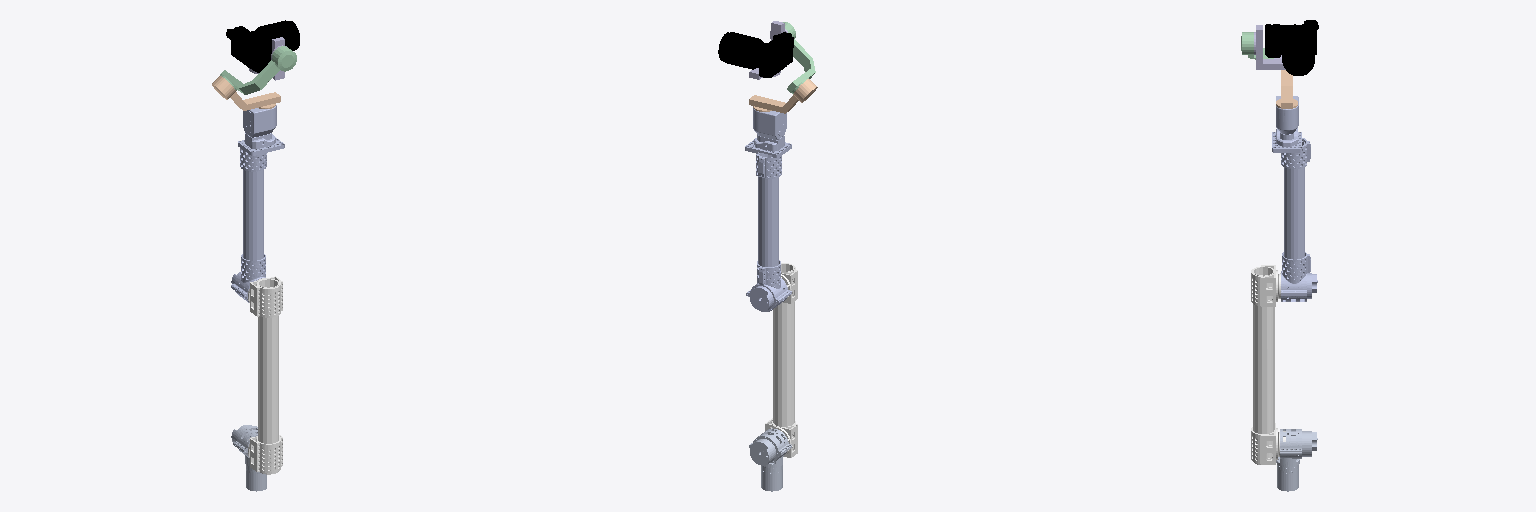
robot.urdf — recomoProto1-190:
<?xml version="1.0" encoding="utf-8"?>
<!--
  RecomoProto1-190 URDF - Modified from recomo_pro_1900_urdf
  
  Date: 2026-01-27
  Status: Initial setup based on recomoProto1 characteristics
  Last Update: 2026-02-06 - Updated gimbal joint limits to match RS4 driver config
  
  MODIFICATIONS APPLIED:
  
  1. VIRTUAL JOINTS FOR CHASSIS (Added from recomoProto1):
     - base_root: Fixed world reference
     - base_vx_link: Prismatic X translation
     - base_vy_link: Prismatic Y translation  
     - base_wz_link: Continuous Z rotation
     
  2. INERTIAL PROPERTIES:
     - base_link: 21.0 kg (same as recomoProto1)
     - arm_link_1: 1.2 kg (increased from 0.254 kg - motor mass)
     - arm_link_2: 1.4 kg (increased from 0.370 kg - motor + link mass)
     - arm_link_3: 1.1 kg (increased from 0.729 kg - adjusted for motor)
     
  3. JOINT LIMITS (Updated 2026-02-06 to match RS4 driver):
     - arm_joint_1 (yaw): ±180° (±3.1416 rad), effort=30 N·m, velocity=0.5 rad/s
     - arm_joint_2 (pitch): ±90° (±1.5708 rad), effort=30 N·m, velocity=0.5 rad/s
     - arm_joint_3 (elbow): ±135° (±2.3562 rad), effort=30 N·m, velocity=0.5 rad/s
     - joint3_gimbal_yaw: -180° to +180° (-3.1416 to 3.1416 rad), effort=10 N·m, velocity=0.5 rad/s
     - joint2_gimbal_roll: -235° to +90° (-4.1015 to 1.5708 rad), effort=10 N·m, velocity=0.5 rad/s
     - joint1_gimbal_pitch: -210° to +110° (-3.6652 to 1.9199 rad), effort=10 N·m, velocity=0.5 rad/s
     
  4. AXIS DIRECTION CORRECTIONS (2026-02-05):
     - joint1_gimbal_pitch: axis changed from [0 0 -1] to [0 0 1]
     - joint3_gimbal_yaw: axis changed from [0 0 -1] to [0 0 1]
     
  5. GIMBAL LIMITS UPDATE (2026-02-06):
     - Updated joint2_gimbal_roll: from (-95° to 240°) to (-235° to 90°)
     - Updated joint1_gimbal_pitch: from (-112° to 214°) to (-210° to 110°)
     - Now matches DJI RS4 driver configuration (hardware validated)
-->
<!-- This URDF was automatically created by SolidWorks to URDF Exporter! Originally created by Stephen Brawner (brawner@gmail.com) 
     Commit Version: 1.6.0-4-g7f85cfe  Build Version: 1.6.7995.38578
     For more information, please see http://wiki.ros.org/sw_urdf_exporter -->
<robot
  name="recomoProto1-190">
  <link name="base_root" />
  <link name="base_vx_link" />
  <link name="base_vy_link" />
  <link name="base_wz_link" />

  <joint name="base_joint_vx" type="prismatic">
    <origin xyz="0 0 0" rpy="0 0 0" />
    <parent link="base_root" />
    <child link="base_vx_link" />
    <axis xyz="1 0 0" />
    <limit lower="-50" upper="50" effort="200" velocity="2" />
  </joint>

  <joint name="base_joint_vy" type="prismatic">
    <origin xyz="0 0 0" rpy="0 0 0" />
    <parent link="base_vx_link" />
    <child link="base_vy_link" />
    <axis xyz="0 1 0" />
    <limit lower="-50" upper="50" effort="200" velocity="2" />
  </joint>

  <joint name="base_joint_wz" type="continuous">
    <origin xyz="0 0 0" rpy="0 0 0" />
    <parent link="base_vy_link" />
    <child link="base_wz_link" />
    <axis xyz="0 0 1" />
  </joint>

  <link
    name="base_link">
    <inertial>
      <origin
        xyz="0.0018565 -0.030946 0.4286"
        rpy="0 0 0" />
      <mass
        value="21.0000" />
      <inertia
        ixx="1.334375"
        ixy="0.0"
        ixz="0.0"
        iyy="1.400000"
        iyz="0.0"
        izz="0.494375" />
    </inertial>
    <visual>
      <origin
        xyz="0 0 0"
        rpy="0 0 0" />
      <geometry>
        <mesh
          filename="meshes/recomoProto1-190/base_link.STL" />
      </geometry>
      <material
        name="">
        <color
          rgba="1 0.6 0 1" />
      </material>
    </visual>
    <collision>
      <origin
        xyz="0 0 0"
        rpy="0 0 0" />
      <geometry>
        <mesh
          filename="meshes/recomoProto1-190/base_link.STL" />
      </geometry>
    </collision>
  </link>
  <joint name="base_link_fixed" type="fixed">
    <origin xyz="0 0 0" rpy="0 0 0" />
    <parent link="base_wz_link" />
    <child link="base_link" />
  </joint>

  <link
    name="arm_base_link">
    <inertial>
      <origin
        xyz="-0.00014044 0.00033905 -0.038979"
        rpy="0 0 0" />
      <mass
        value="0.095731" />
      <inertia
        ixx="3.5316E-05"
        ixy="1.4007E-17"
        ixz="-4.2483E-18"
        iyy="3.5316E-05"
        iyz="-1.3664E-18"
        izz="3.0657E-05" />
    </inertial>
    <visual>
      <origin
        xyz="0 0 0"
        rpy="0 0 0" />
      <geometry>
        <mesh
          filename="meshes/recomoProto1-190/arm_base_link.STL" />
      </geometry>
      <material
        name="">
        <color
          rgba="0.81176 0.84314 0.9098 1" />
      </material>
    </visual>
    <collision>
      <origin
        xyz="0 0 0"
        rpy="0 0 0" />
      <geometry>
        <mesh
          filename="meshes/recomoProto1-190/arm_base_link.STL" />
      </geometry>
    </collision>
  </link>
  <joint
    name="arm_base_joint"
    type="fixed">
    <origin
      xyz="0.00047949 0 0.8428"
      rpy="0 0 0" />
    <parent
      link="base_link" />
    <child
      link="arm_base_link" />
    <axis
      xyz="0 0 0" />
  </joint>
  <link
    name="arm_link_1">
    <inertial>
      <origin
        xyz="0.0 0.0 0.0220"
        rpy="0 0 0" />
      <mass
        value="1.2000" />
      <inertia
        ixx="0.001120"
        ixy="0.0"
        ixz="0.0"
        iyy="0.001120"
        iyz="0.0"
        izz="0.000960" />
    </inertial>
    <visual>
      <origin
        xyz="0 0 0"
        rpy="0 0 0" />
      <geometry>
        <mesh
          filename="meshes/recomoProto1-190/arm_link_1.STL" />
      </geometry>
      <material
        name="">
        <color
          rgba="0.81176 0.84314 0.9098 1" />
      </material>
    </visual>
    <collision>
      <origin
        xyz="0 0 0"
        rpy="0 0 0" />
      <geometry>
        <mesh
          filename="meshes/recomoProto1-190/arm_link_1.STL" />
      </geometry>
    </collision>
  </link>
  <joint
    name="joint6_arm_yaw"
    type="revolute">
    <origin
      xyz="0 0 0"
      rpy="0 0 0" />
    <parent
      link="arm_base_link" />
    <child
      link="arm_link_1" />
    <axis
      xyz="0 0 1" />
    <limit
      lower="-3.1416"
      upper="3.1416"
      effort="30.0"
      velocity="0.5" />
  </joint>
  <link
    name="arm_link_2">
    <inertial>
      <origin
        xyz="0.0 0.2000 0.0"
        rpy="0 0 0" />
      <mass
        value="1.4000" />
      <inertia
        ixx="0.001213"
        ixy="0.0"
        ixz="0.0"
        iyy="0.001213"
        iyz="0.0"
        izz="0.001040" />
    </inertial>
    <visual>
      <origin
        xyz="0 0 0"
        rpy="0 0 0" />
      <geometry>
        <mesh
          filename="meshes/recomoProto1-190/arm_link_2.STL" />
      </geometry>
      <material
        name="">
        <color
          rgba="1 1 1 1" />
      </material>
    </visual>
    <collision>
      <origin
        xyz="0 0 0"
        rpy="0 0 0" />
      <geometry>
        <mesh
          filename="meshes/recomoProto1-190/arm_link_2.STL" />
      </geometry>
    </collision>
  </link>
  <joint
    name="joint5_arm_pitch"
    type="revolute">
    <origin
      xyz="0 0 0.044"
      rpy="1.5708 0 0" />
    <parent
      link="arm_link_1" />
    <child
      link="arm_link_2" />
    <axis
      xyz="0 0 1" />
    <limit
      lower="-2.3562"
      upper="2.3562"
      effort="30.0"
      velocity="0.5" />
  </joint>
  <link
    name="arm_link_3">
    <inertial>
      <origin
        xyz="0.0 -0.2445 0.0"
        rpy="0 0 0" />
      <mass
        value="1.1000" />
      <inertia
        ixx="0.000933"
        ixy="0.0"
        ixz="0.0"
        iyy="0.000933"
        iyz="0.0"
        izz="0.000800" />
    </inertial>
    <visual>
      <origin
        xyz="0 0 0"
        rpy="0 0 0" />
      <geometry>
        <mesh
          filename="meshes/recomoProto1-190/arm_link_3.STL" />
      </geometry>
      <material
        name="">
        <color
          rgba="0.79216 0.81961 0.93333 1" />
      </material>
    </visual>
    <collision>
      <origin
        xyz="0 0 0"
        rpy="0 0 0" />
      <geometry>
        <mesh
          filename="meshes/recomoProto1-190/arm_link_3.STL" />
      </geometry>
    </collision>
  </link>
  <joint
    name="joint4_elbow_pitch"
    type="revolute">
    <origin
      xyz="0 0.4 0"
      rpy="3.1416 0 0" />
    <parent
      link="arm_link_2" />
    <child
      link="arm_link_3" />
    <axis
      xyz="0 0 1" />
    <limit
      lower="-2.3562"
      upper="2.3562"
      effort="30.0"
      velocity="0.5" />
  </joint>
  <link
    name="arm_link_4">
    <inertial>
      <origin
        xyz="-0.070164 4.3368E-17 0.042022"
        rpy="0 0 0" />
      <mass
        value="0.13278" />
      <inertia
        ixx="0.00012819"
        ixy="-2.7105E-20"
        ixz="0.0001679"
        iyy="0.00043346"
        iyz="2.7105E-20"
        izz="0.00033786" />
    </inertial>
    <visual>
      <origin
        xyz="0 0 0"
        rpy="0 0 0" />
      <geometry>
        <mesh
          filename="meshes/recomoProto1-190/arm_link_4.STL" />
      </geometry>
      <material
        name="">
        <color
          rgba="0.96078 0.83137 0.72549 1" />
      </material>
    </visual>
    <collision>
      <origin
        xyz="0 0 0"
        rpy="0 0 0" />
      <geometry>
        <mesh
          filename="meshes/recomoProto1-190/arm_link_4.STL" />
      </geometry>
    </collision>
  </link>
  <joint
    name="joint3_gimbal_yaw"
    type="revolute">
    <origin
      xyz="0.02166 -0.47088 -0.0017763"
      rpy="1.5708 0 0" />
    <parent
      link="arm_link_3" />
    <child
      link="arm_link_4" />
    <axis
      xyz="0 0 1" />
    <limit
      lower="-3.1416"
      upper="3.1416"
      effort="10.0"
      velocity="0.5" />
  </joint>
  <link
    name="arm_link_5">
    <inertial>
      <origin
        xyz="-0.0017207 -0.063107 0.072648"
        rpy="0 0 0" />
      <mass
        value="0.14569" />
      <inertia
        ixx="0.00061559"
        ixy="-6.2991E-06"
        ixz="1.0646E-05"
        iyy="0.00042549"
        iyz="0.00023199"
        izz="0.00022502" />
    </inertial>
    <visual>
      <origin
        xyz="0 0 0"
        rpy="0 0 0" />
      <geometry>
        <mesh
          filename="meshes/recomoProto1-190/arm_link_5.STL" />
      </geometry>
      <material
        name="">
        <color
          rgba="0.70588 0.85882 0.7451 1" />
      </material>
    </visual>
    <collision>
      <origin
        xyz="0 0 0"
        rpy="0 0 0" />
      <geometry>
        <mesh
          filename="meshes/recomoProto1-190/arm_link_5.STL" />
      </geometry>
    </collision>
  </link>
  <joint
    name="joint2_gimbal_roll"
    type="revolute">
    <origin
      xyz="-0.099888 0 0.077538"
      rpy="0 0.94248 0" />
    <parent
      link="arm_link_4" />
    <child
      link="arm_link_5" />
    <axis
      xyz="0 0 1" />
    <limit
      lower="-4.1015"
      upper="1.5708"
      effort="10.0"
      velocity="0.5" />
  </joint>
  <link
    name="arm_link_6">
    <inertial>
      <origin
        xyz="-0.0050729 0.033014 0.045516"
        rpy="0 0 0" />
      <mass
        value="0.11479" />
      <inertia
        ixx="0.0002457"
        ixy="9.9849E-06"
        ixz="1.7169E-05"
        iyy="0.0001741"
        iyz="-7.7172E-05"
        izz="0.0001101" />
    </inertial>
    <visual>
      <origin
        xyz="0 0 0"
        rpy="0 0 0" />
      <geometry>
        <mesh
          filename="meshes/recomoProto1-190/arm_link_6.STL" />
      </geometry>
      <material
        name="">
        <color
          rgba="0.79216 0.78039 0.89412 1" />
      </material>
    </visual>
    <collision>
      <origin
        xyz="0 0 0"
        rpy="0 0 0" />
      <geometry>
        <mesh
          filename="meshes/recomoProto1-190/arm_link_6.STL" />
      </geometry>
    </collision>
  </link>
  <joint
    name="joint1_gimbal_pitch"
    type="revolute">
    <origin
      xyz="-0.0031465 -0.075 0.12575"
      rpy="-1.5708 -0.94248 0" />
    <parent
      link="arm_link_5" />
    <child
      link="arm_link_6" />
    <axis
      xyz="0 0 1" />
    <limit
      lower="-3.6652"
      upper="1.9199"
      effort="10.0"
      velocity="0.5" />
  </joint>
  <link
    name="cam_link">
    <inertial>
      <origin
        xyz="-0.0092646 -4.9409E-05 0.0081469"
        rpy="0 0 0" />
      <mass
        value="0.69964" />
      <inertia
        ixx="0.0003447"
        ixy="-6.5753E-06"
        ixz="2.4463E-05"
        iyy="0.00056714"
        iyz="1.3804E-06"
        izz="0.00070106" />
    </inertial>
    <visual>
      <origin
        xyz="0 0 0"
        rpy="0 0 0" />
      <geometry>
        <mesh
          filename="meshes/recomoProto1-190/cam_link.STL" />
      </geometry>
      <material
        name="">
        <color
          rgba="0 0 0 1" />
      </material>
    </visual>
    <collision>
      <origin
        xyz="0 0 0"
        rpy="0 0 0" />
      <geometry>
        <mesh
          filename="meshes/recomoProto1-190/cam_link.STL" />
      </geometry>
    </collision>
  </link>
  <joint
    name="camera_optical_center"
    type="fixed">
    <origin
      xyz="-0.0019634 0.0065609 0.10147"
      rpy="0 -1.5708 3.1416" />
    <parent
      link="arm_link_6" />
    <child
      link="cam_link" />
    <axis
      xyz="0 0 0" />
  </joint>
  <link name="ee_tool">
    <inertial>
      <origin xyz="0 0 0" rpy="0 0 0" />
      <mass value="0.001" />
      <inertia ixx="2.3333E-07" ixy="0" ixz="0" iyy="2.3333E-07" iyz="0" izz="5.0E-08" />
    </inertial>
  </link>
  <joint name="ee_tool_fixed" type="fixed">
    <origin xyz="0 0 0" rpy="0 0 0" />
    <parent link="cam_link" />
    <child link="ee_tool" />
  </joint>
</robot>

--- What the picture shows (computed from the rendered views, not written in the file) ---
Views: 3 orthographic renders of the robot side by side, from view 1: azimuth 30°, elevation 25°; view 2: azimuth 150°, elevation 25°; view 3: azimuth 270°, elevation 25°.
Robot: recomoProto1-190 — 14 links, 13 joints (6 revolute, 1 continuous, 2 prismatic, 4 fixed); root link base_root; default pose: all joints at 0.
Links seen in each view (by area): view 1: arm_link_2, arm_link_3, cam_link, arm_link_5, arm_link_4, arm_link_1; view 2: arm_link_3, arm_link_2, cam_link, arm_link_1, arm_link_4, arm_link_5; view 3: arm_link_3, arm_link_2, cam_link, arm_link_1, arm_link_6.
Link boxes in pixels (bbox=[...]): arm_link_2: bbox=[248, 276, 282, 474]; arm_link_3: bbox=[231, 105, 284, 302]; cam_link: bbox=[226, 20, 299, 72]; arm_link_5: bbox=[220, 46, 296, 94]; arm_link_4: bbox=[212, 76, 280, 110]; arm_link_1: bbox=[231, 425, 257, 471]; arm_link_3: bbox=[745, 108, 791, 311]; arm_link_2: bbox=[765, 263, 797, 457]; cam_link: bbox=[718, 32, 793, 77]; arm_link_1: bbox=[749, 428, 791, 471]; arm_link_4: bbox=[749, 79, 817, 113]; arm_link_5: bbox=[783, 22, 815, 93]; arm_link_3: bbox=[1272, 96, 1317, 301]; arm_link_2: bbox=[1251, 265, 1285, 464]; cam_link: bbox=[1265, 20, 1318, 75]; arm_link_1: bbox=[1276, 429, 1317, 471]; arm_link_6: bbox=[1254, 25, 1285, 69].
Size in the robot's own frame: 0.228 by 0.1772 by 1.17 metres.
8 mesh visuals loaded from 9 distinct referenced files (8 binary STL); not drawn: 1 (reference not matched to a file when rendering).
